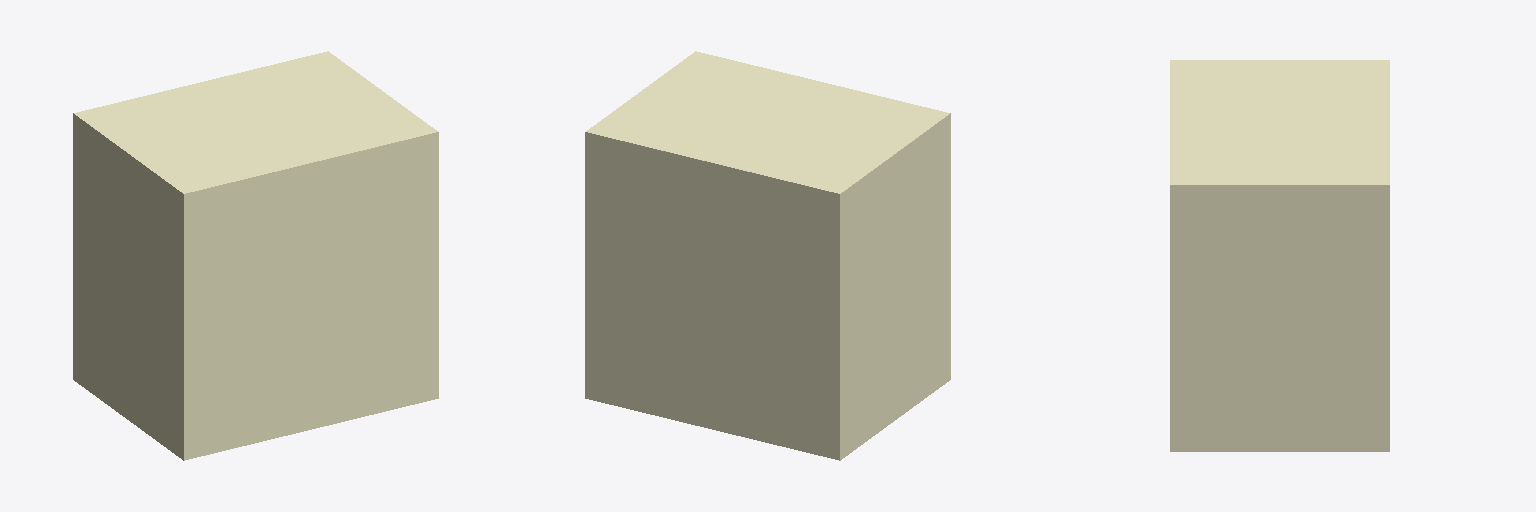
The picture shows the model from 3 angles: view 1: azimuth 30°, elevation 25°; view 2: azimuth 150°, elevation 25°; view 3: azimuth 270°, elevation 25°; orthographic projection.
Parts seen in each view (by area): view 1: object 1; view 2: object 1; view 3: object 1.
Part boxes in pixels (x1,y1,x2,y2): object 1: (73, 51, 438, 460); object 1: (585, 51, 950, 460); object 1: (1170, 60, 1389, 451).
Size of the model in its own units: 4.8 by 4.8 by 3.6.
1 materials, 1 textured.